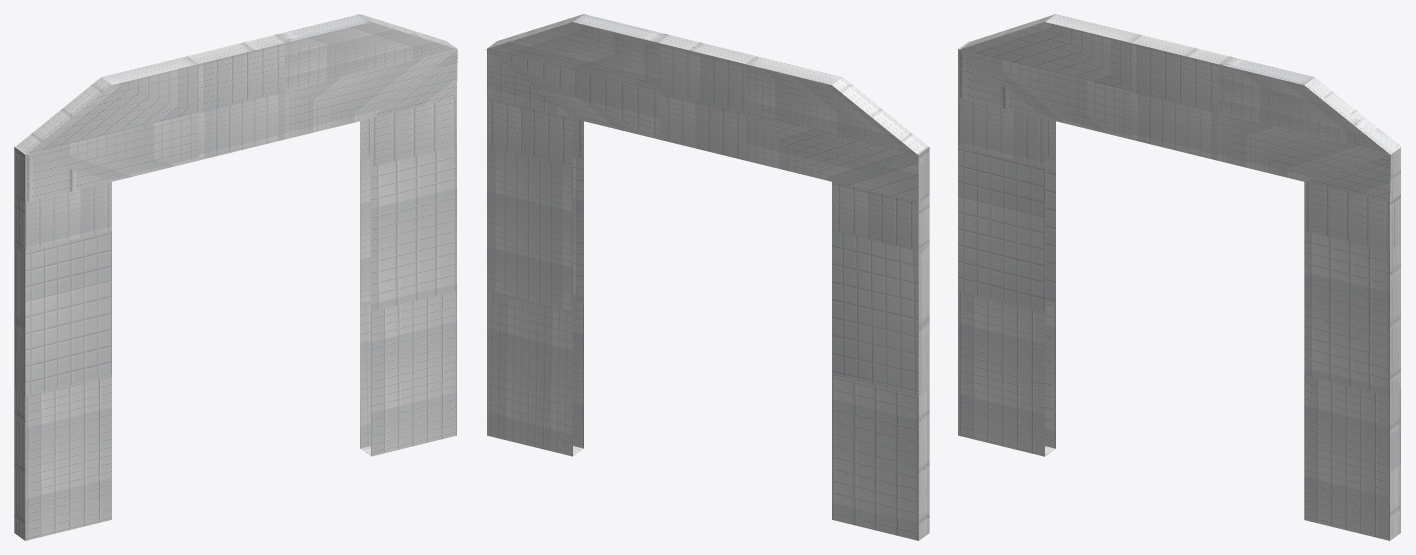
The model's file is PoolRoomDoor.fbx.
The picture shows the model from 3 angles, left to right: view 1: azimuth 30°, elevation 25°; view 2: azimuth 150°, elevation 25°; view 3: azimuth 330°, elevation 25°; orthographic projection.
Visible parts, largest first — view 1: Cube; view 2: Cube; view 3: Cube.
Boxes of the visible parts, bbox=[...] form: Cube: bbox=[14, 14, 457, 540]; Cube: bbox=[486, 14, 929, 540]; Cube: bbox=[958, 14, 1401, 540].
Bounding box in the file's own units: 1191 × 1144 × 52.14.
Materials: 1 (1 with a texture image).
